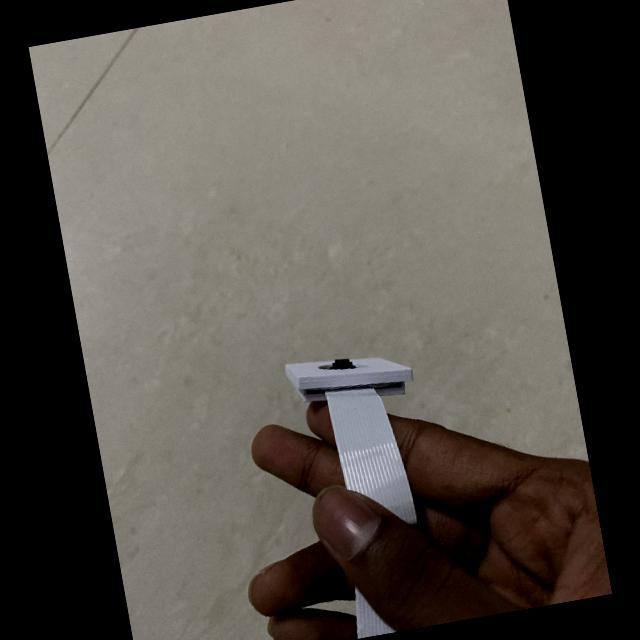RASPBERY PI CAM ENCLOSURE: (285, 358, 412, 402)
